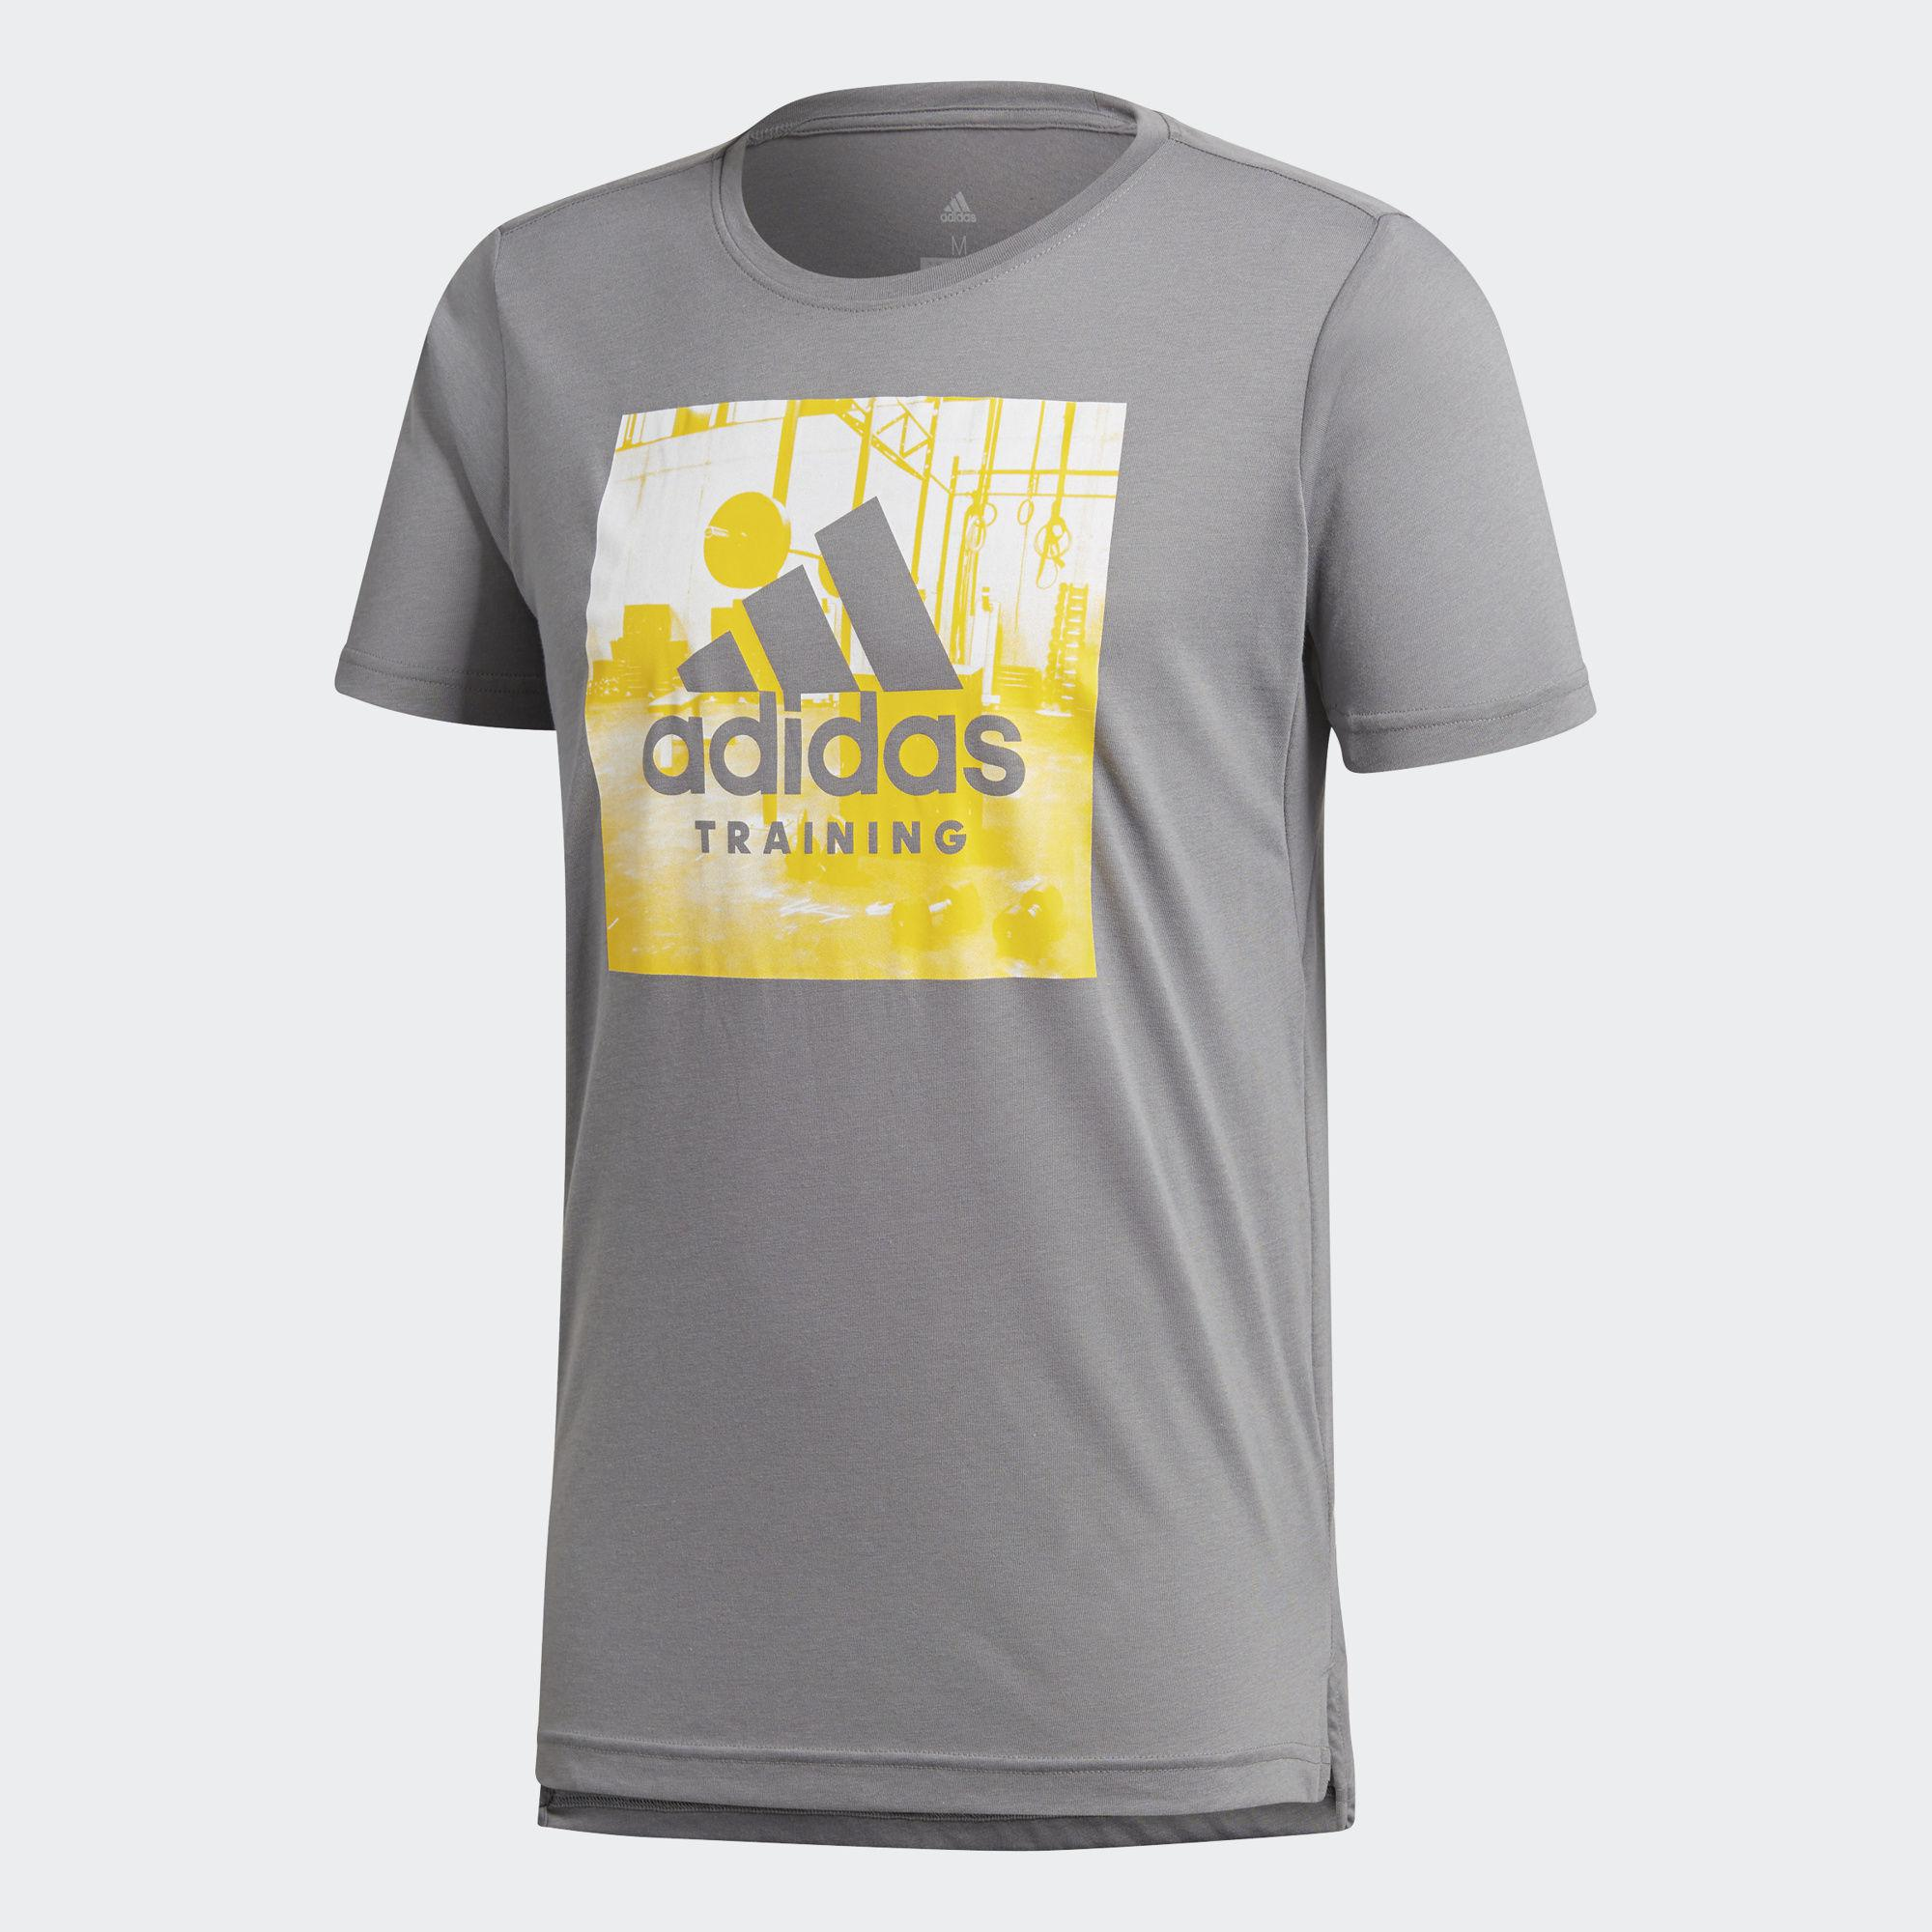teeshirt: (303, 64, 1617, 1930)
